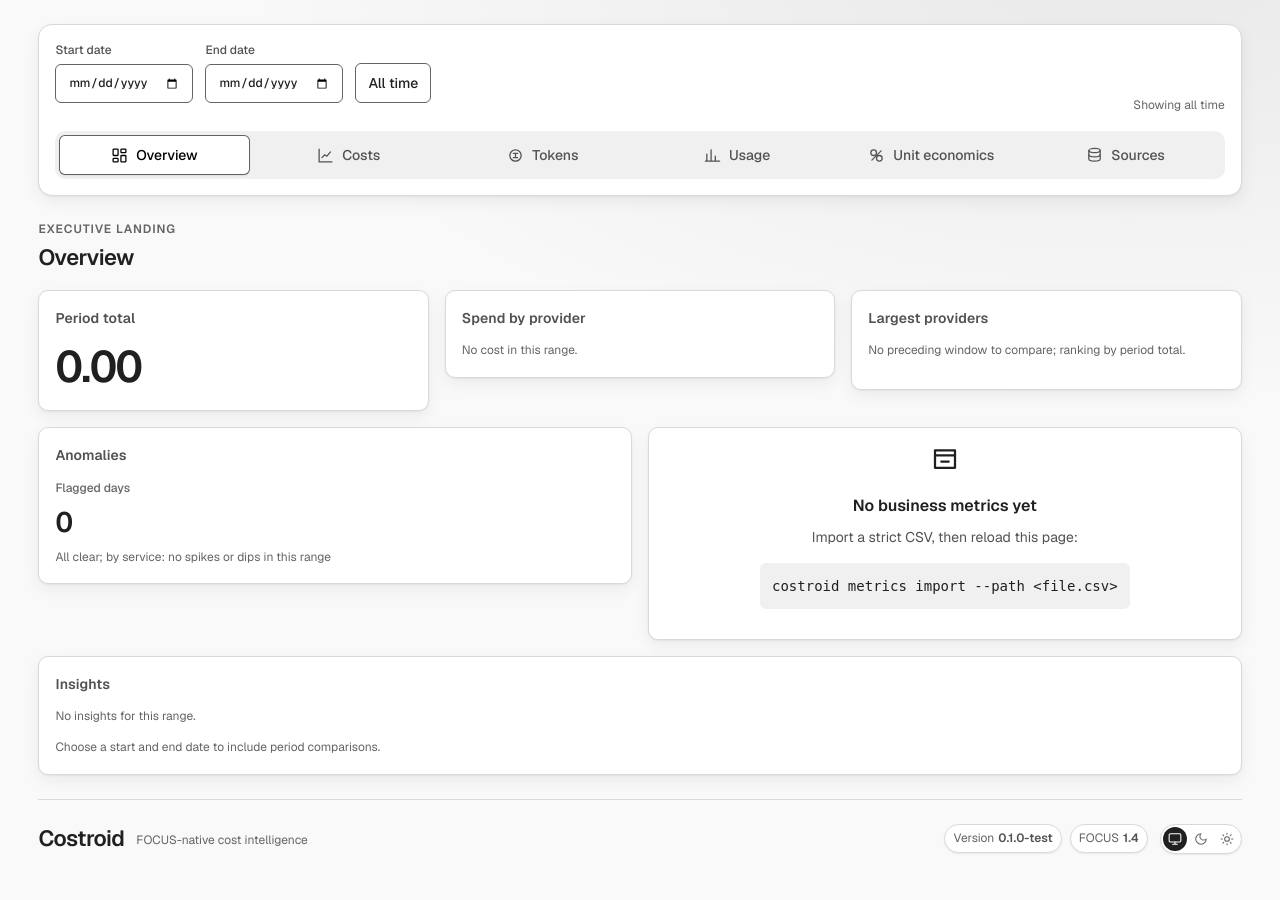
Test: App › threads the selected date range to the active view
Expected: the text "Showing all time" is shown, [1133, 96, 1225, 115]
Expected: the heading "Overview" is shown, [38, 243, 134, 271]
Type "2026-05-01" into the date field labelled "Start date" at point(124, 84), box [55, 64, 193, 103]
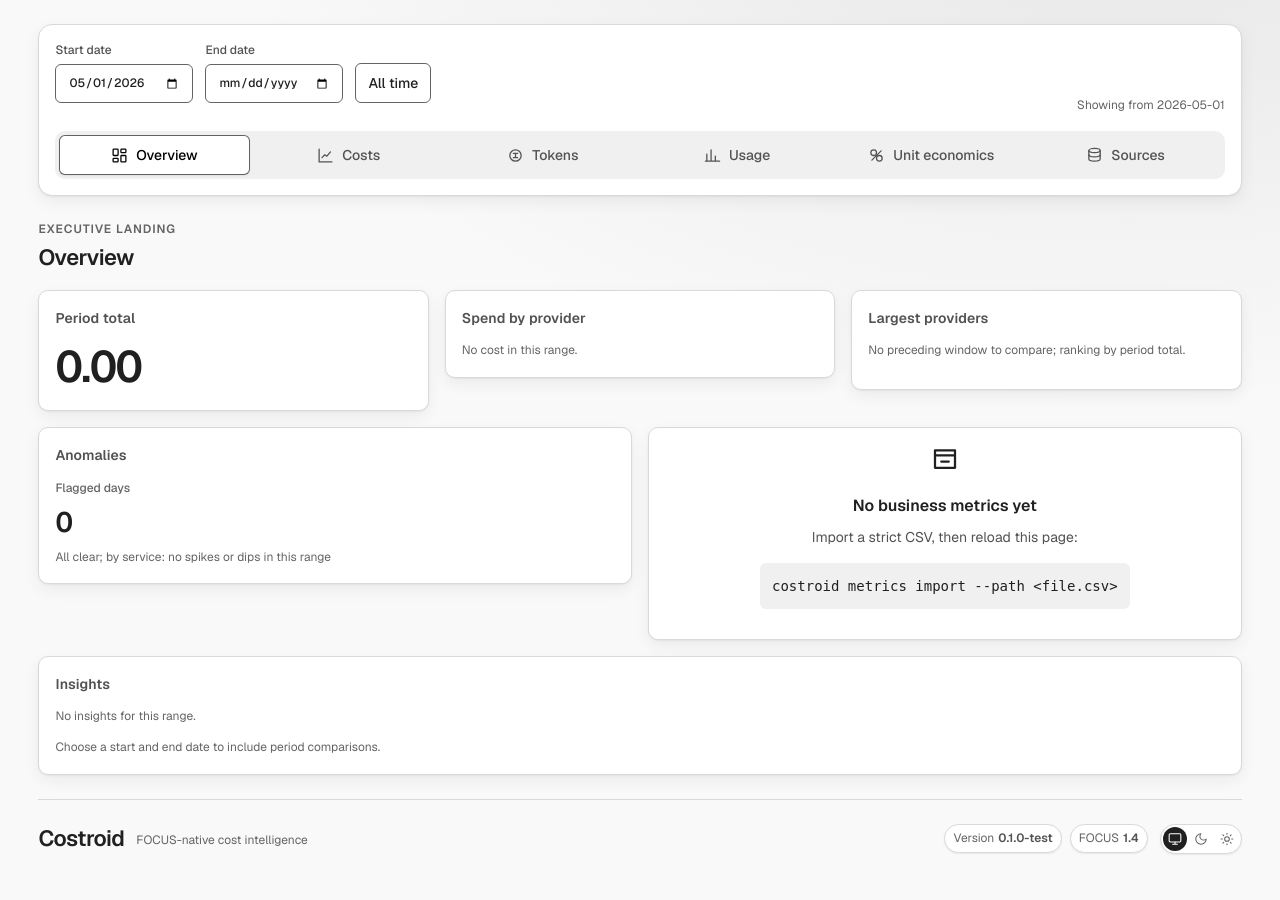
Result: the text "Showing from 2026-05-01" is shown at [1077, 96, 1225, 115]
Type "2026-05-31" into the date field labelled "End date" at point(274, 84), box [205, 64, 343, 103]
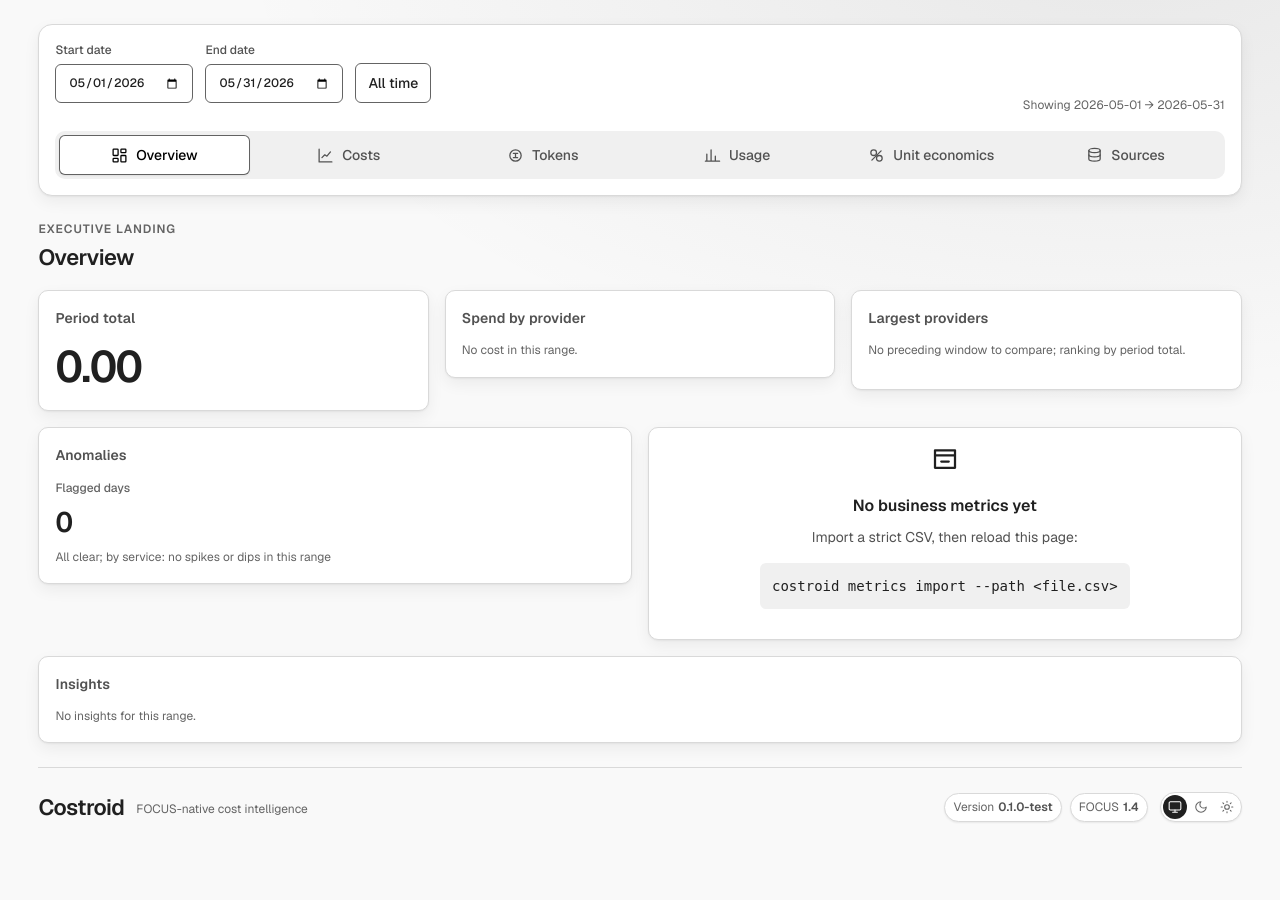
Result: the text "Showing 2026-05-01 → 2026-05-31" is shown at [1023, 96, 1225, 115]
Click the button "Tokens" at point(543, 155), box [448, 135, 638, 175]
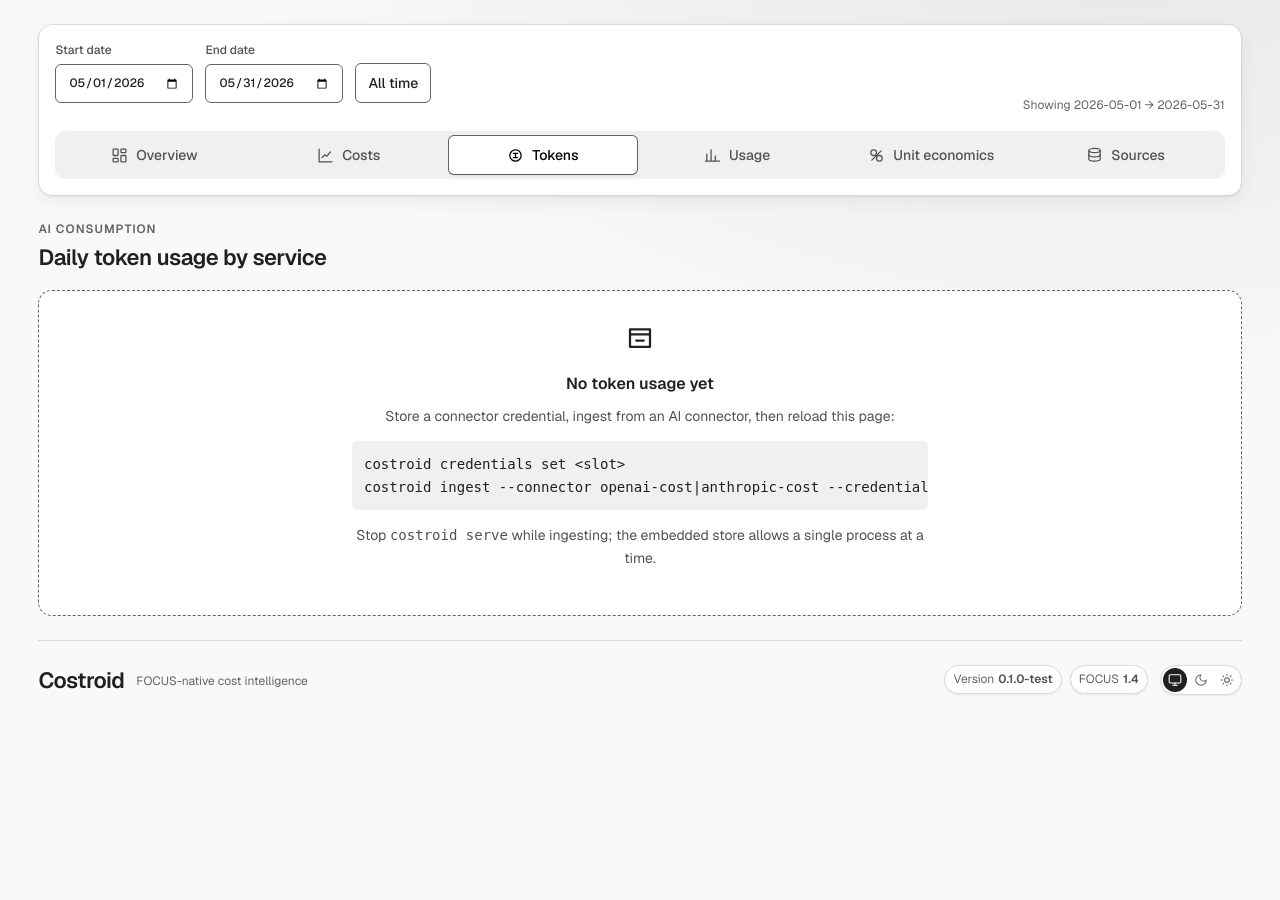
Result: the heading "Daily token usage by service" is shown at [38, 244, 327, 270]
